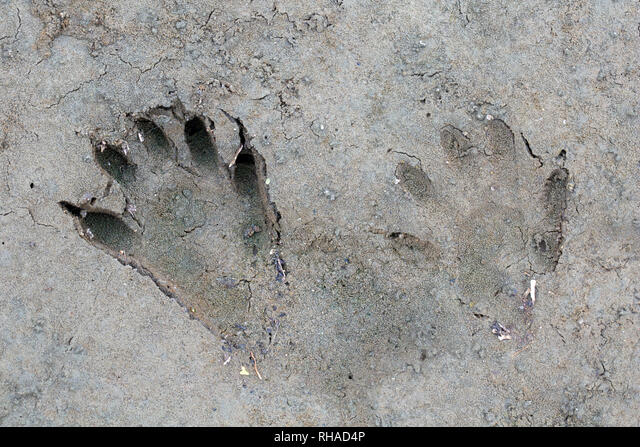raccoon: (39, 71, 309, 386)
